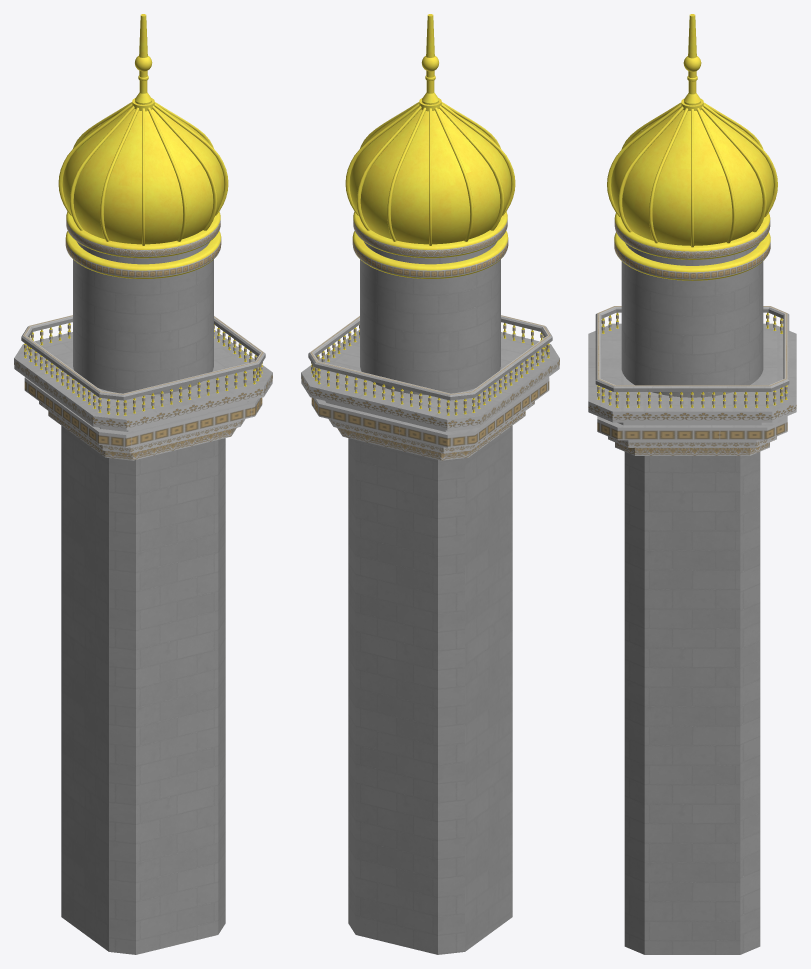
The model's file is SM_module_01.glb.
3 renders of one model, left to right at view 1: azimuth 30°, elevation 25°; view 2: azimuth 150°, elevation 25°; view 3: azimuth 270°, elevation 25°, orthographic.
Parts seen in each view (by area): view 1: SM_module_01; view 2: SM_module_01; view 3: SM_module_01.
Part boxes in pixels (x1,y1,x2,y2): SM_module_01: [14, 14, 272, 954]; SM_module_01: [301, 14, 559, 954]; SM_module_01: [588, 14, 796, 954].
Bounding box in the file's own units: 4.7 × 22.65 × 4.7.
Materials: 3 (3 with a texture image).
